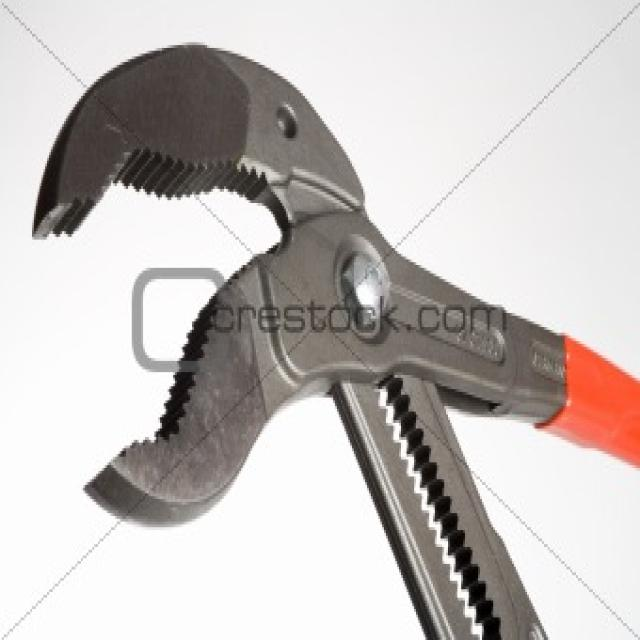wrench: (32, 45, 640, 640)
